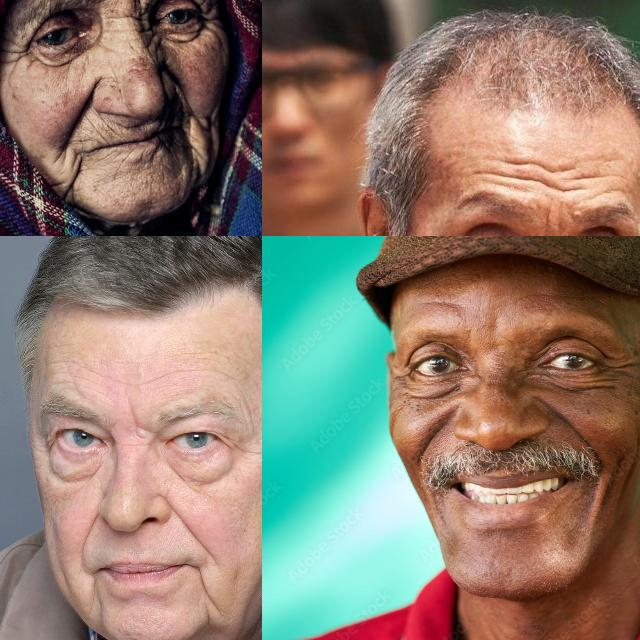bunny_line: (139, 30, 167, 68)
crows_feet: (604, 350, 632, 386), (6, 40, 38, 70), (198, 7, 222, 46), (223, 432, 255, 460), (392, 364, 414, 392), (38, 432, 58, 456)
forehead: (482, 148, 582, 192), (156, 363, 200, 385), (60, 355, 96, 379), (421, 296, 461, 312)
frown_line: (120, 403, 148, 431), (538, 206, 556, 236), (111, 0, 144, 12)
gummy_smile: (167, 498, 207, 558), (56, 94, 100, 144), (544, 400, 582, 440), (416, 419, 442, 459), (78, 516, 102, 556)
masseter: (194, 115, 220, 179)
sad_smile: (196, 571, 218, 619), (60, 157, 82, 201), (86, 577, 104, 617)
smoker_lines: (108, 115, 144, 137)
